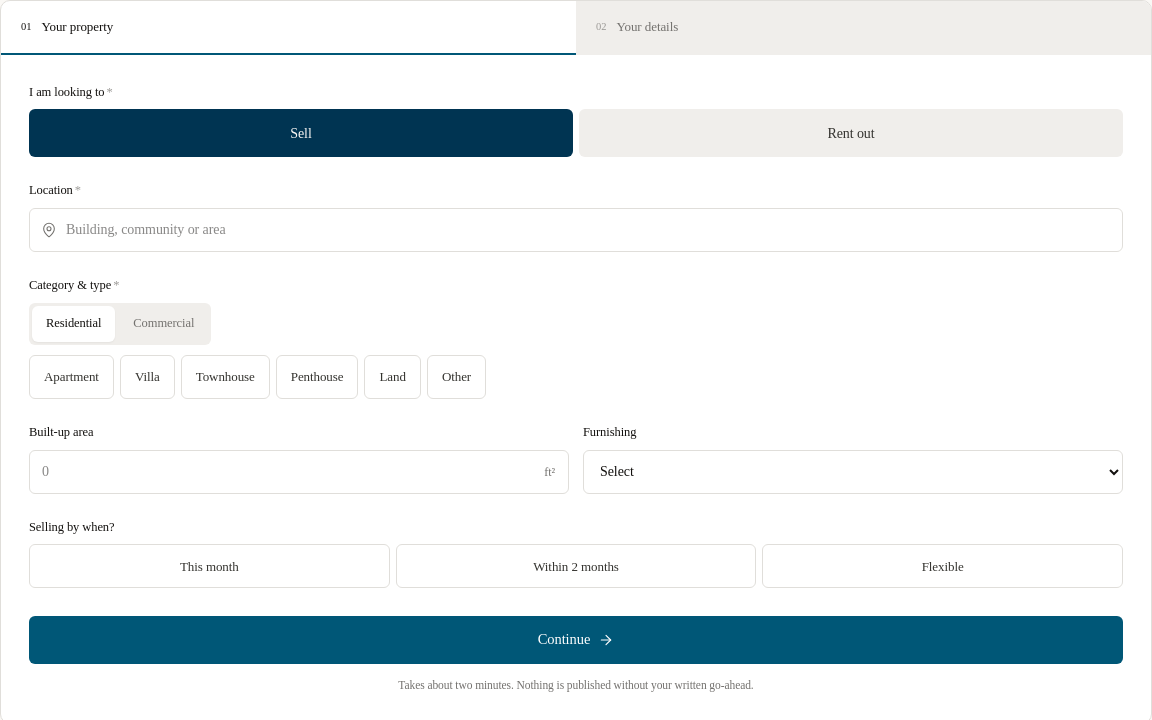
Test case: wording from the Forms Manager › words the urgency question for the branch the owner is on
Expected: the text "Selling by when?" is shown, left=29, top=520, right=114, bottom=534
Step 1. Click the button "Rent out" → (851, 133), box left=579, top=109, right=1123, bottom=157
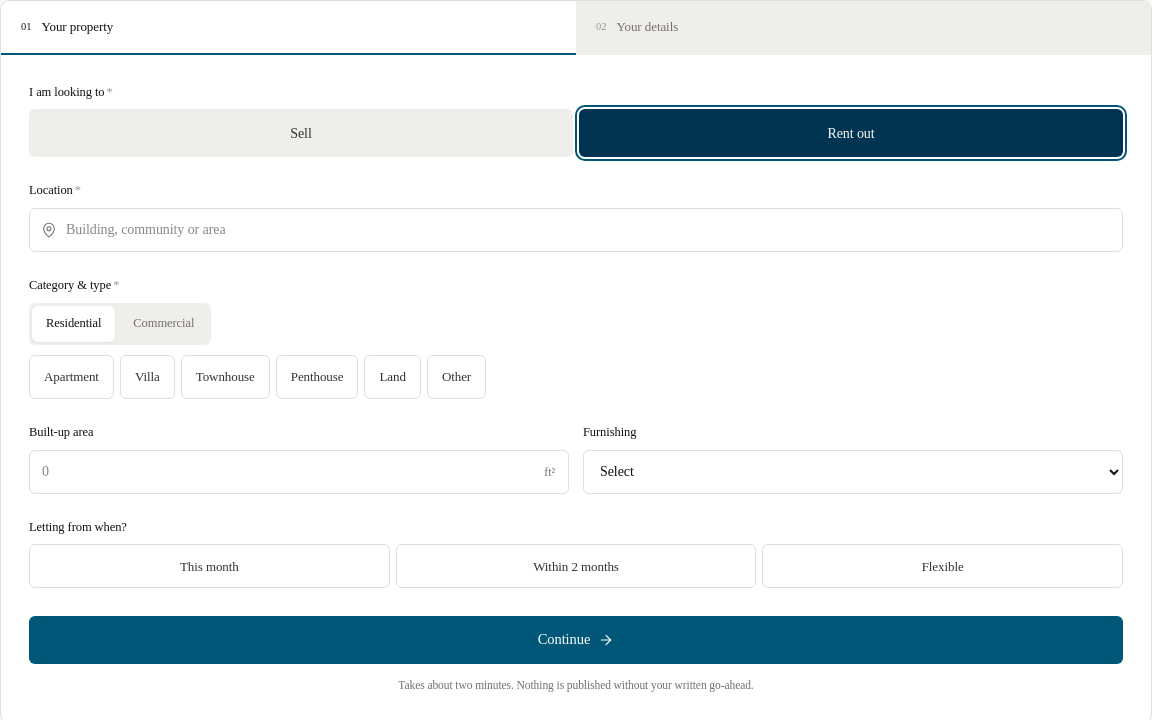
Result: the text "Letting from when?" is shown at left=29, top=520, right=127, bottom=534
Result: the text "Selling by when?" is gone
